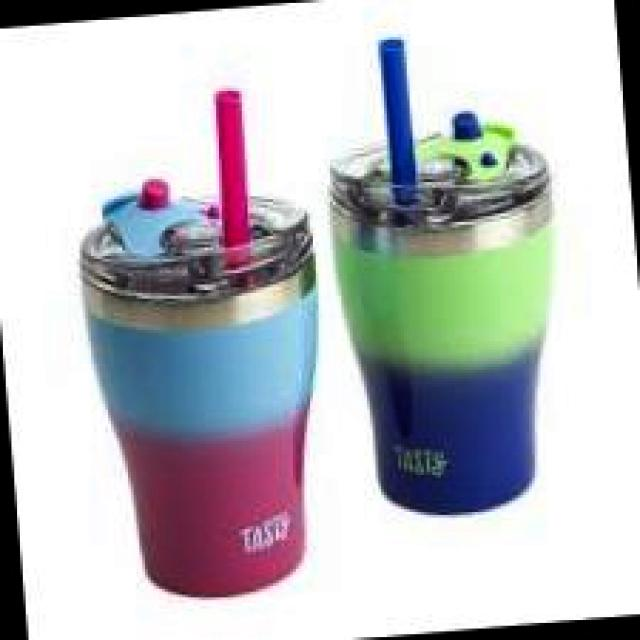bottle: (51, 80, 347, 608), (310, 21, 583, 528)
